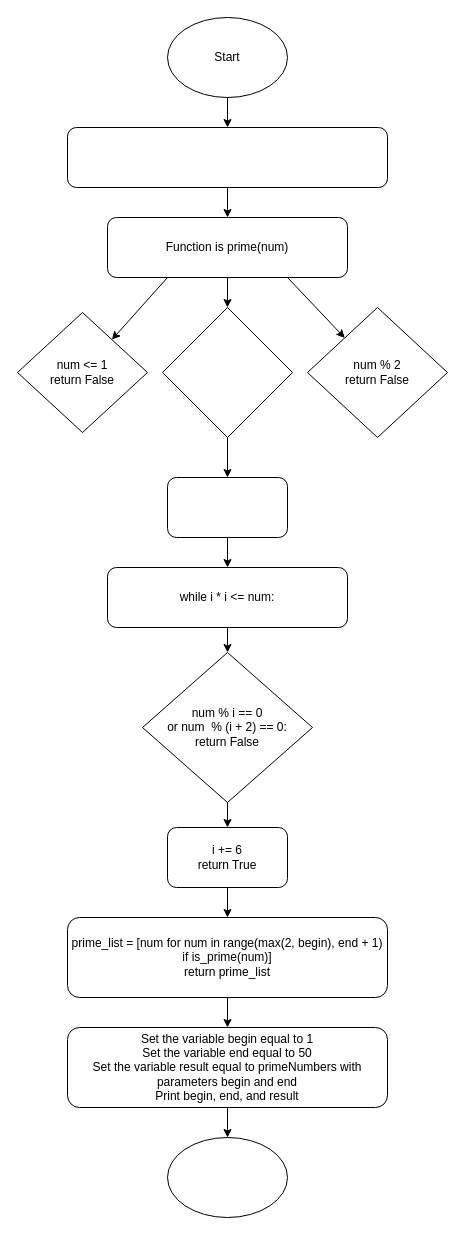
The diagram is 465 pixels wide and 1235 high, and some of its shapes have lost their labels. Here are the shapes that lost their labels. From the top down, the centre of each, then its label:
At (x=227, y=157): "Function primeNumbers(begin,end)".
At (x=227, y=372): "num <= 3 return True".
At (x=227, y=507): "i = 5".
At (x=227, y=1177): "End".
